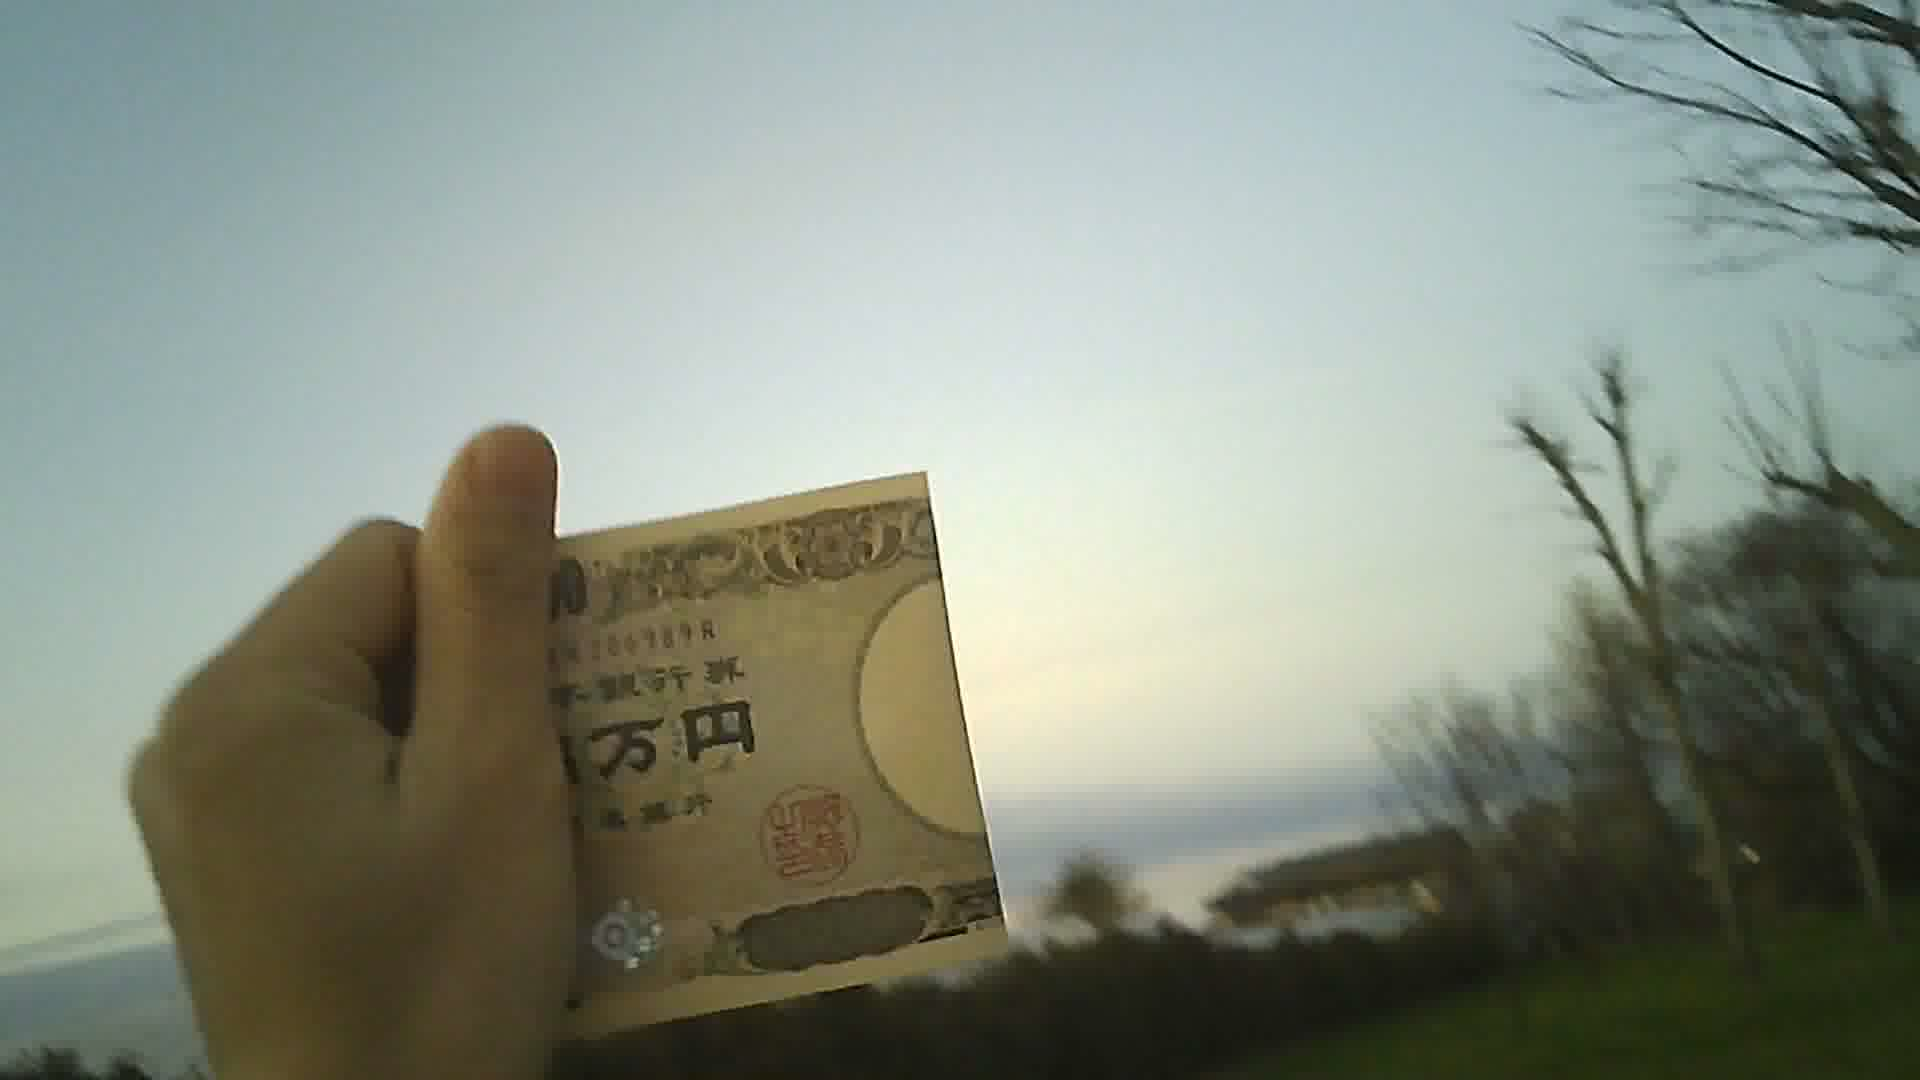10,000 Yen: (438, 460, 1023, 1021)
